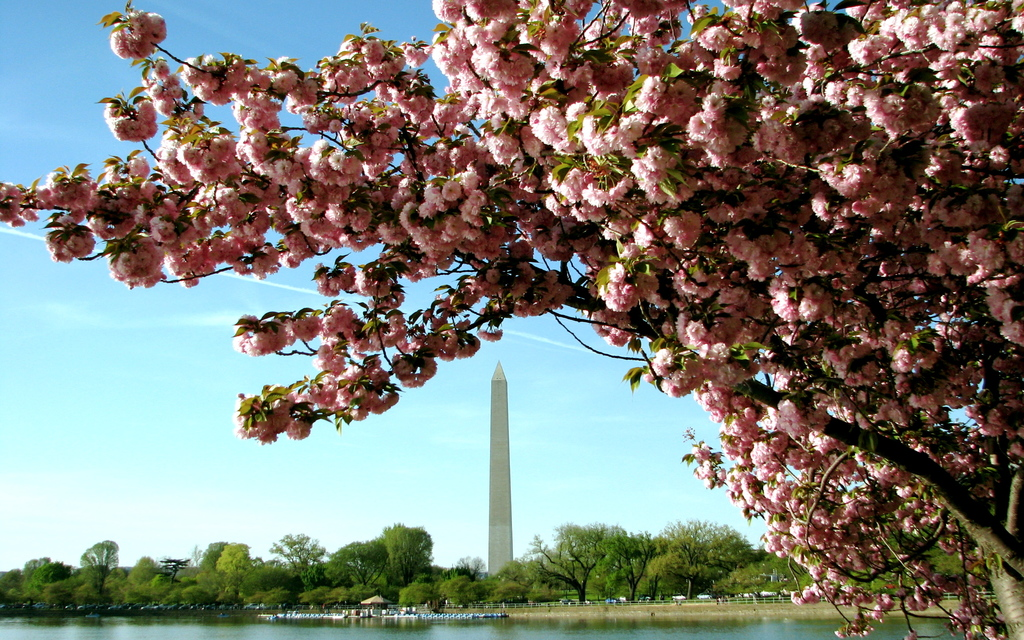Tree: (0, 0, 1023, 639), (0, 521, 480, 604), (512, 519, 757, 605)
